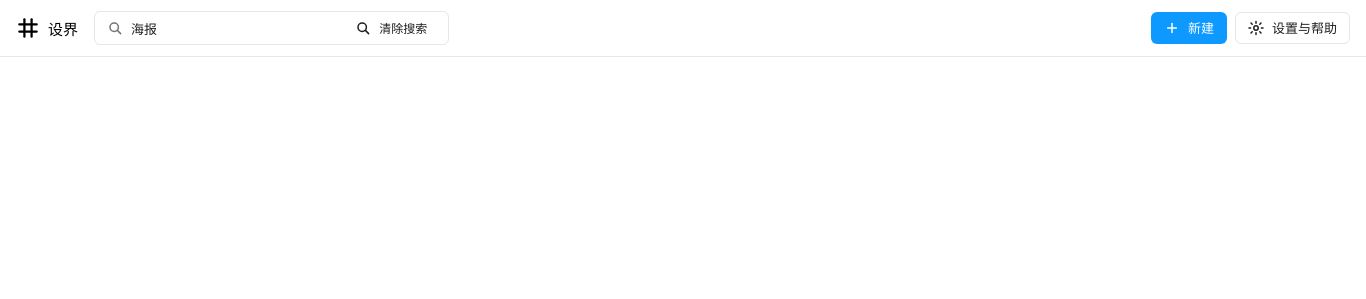
it: HomeTopbar · 全局搜索（B9） › 市场索引未就绪 → 该结果线显示降级说明（搜索整体不报错）
The width and height of the screenshot is (1366, 299).
Step 1. Click the search field named "搜索文件与技能资产" → click(235, 28), box [131,12,338,44]
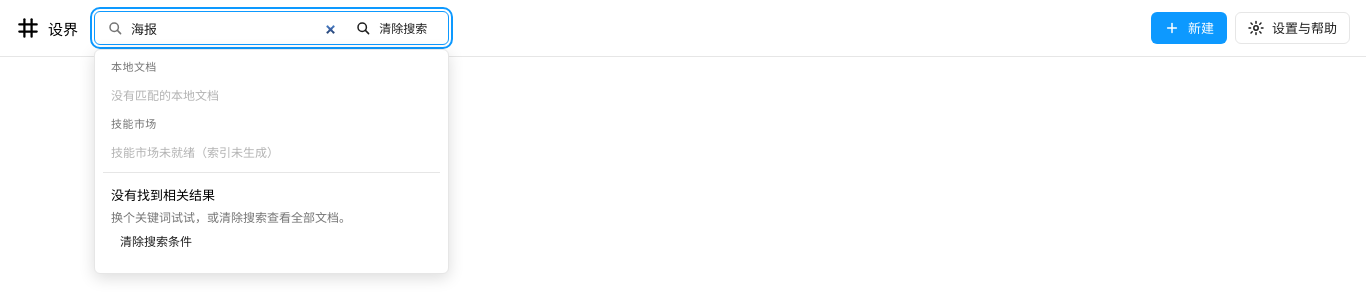
Expected: the text "技能市场未就绪（索引未生成）" is shown, [111,143,279,160]
